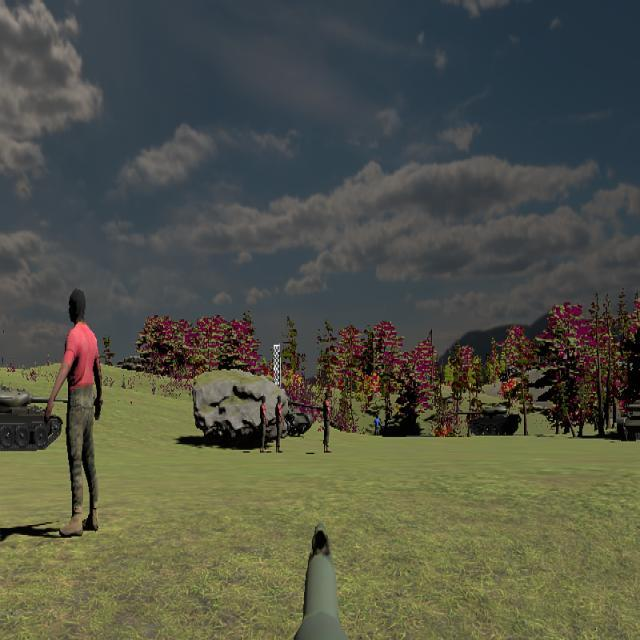Human: (45, 289, 103, 541), (321, 391, 333, 452), (259, 394, 269, 454), (260, 394, 269, 454), (275, 394, 284, 452)
Tank: (0, 384, 63, 453), (450, 404, 521, 437), (616, 398, 640, 442)
